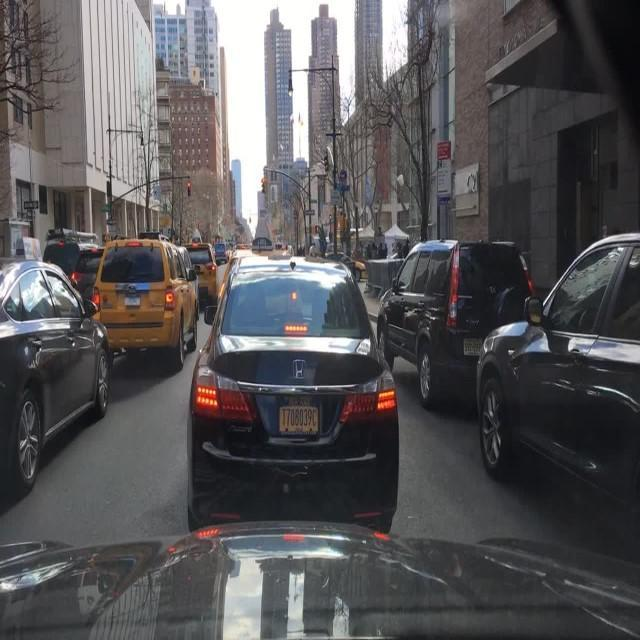normal: (188, 261, 402, 545), (475, 235, 640, 504), (375, 238, 535, 412), (0, 255, 113, 501), (91, 234, 201, 368), (186, 249, 220, 311)
